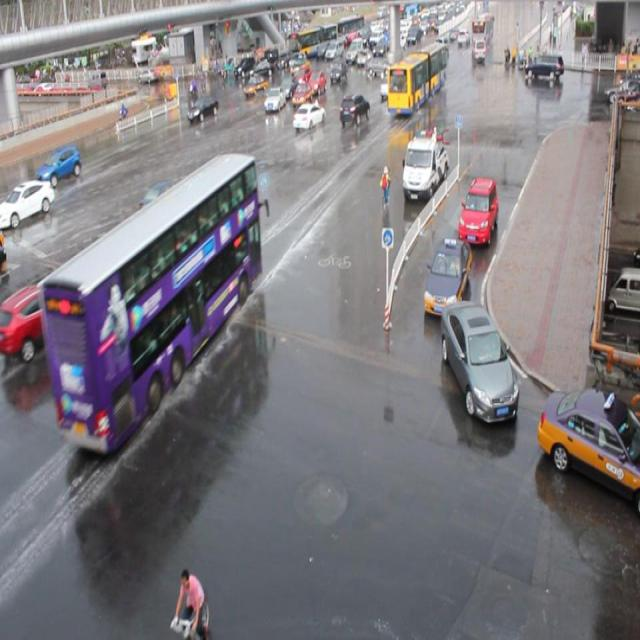bus: (401, 130, 448, 202)
car: (535, 387, 640, 509), (439, 297, 518, 422), (1, 281, 68, 361), (138, 180, 206, 250), (423, 235, 471, 315), (0, 178, 54, 229), (457, 177, 498, 244), (36, 144, 82, 185), (339, 92, 370, 126), (186, 93, 218, 123), (292, 102, 326, 130), (243, 73, 268, 98), (292, 81, 313, 109), (263, 87, 286, 112), (279, 74, 299, 99), (306, 70, 326, 94), (379, 76, 400, 98)
van: (37, 152, 262, 450), (386, 42, 446, 114)
